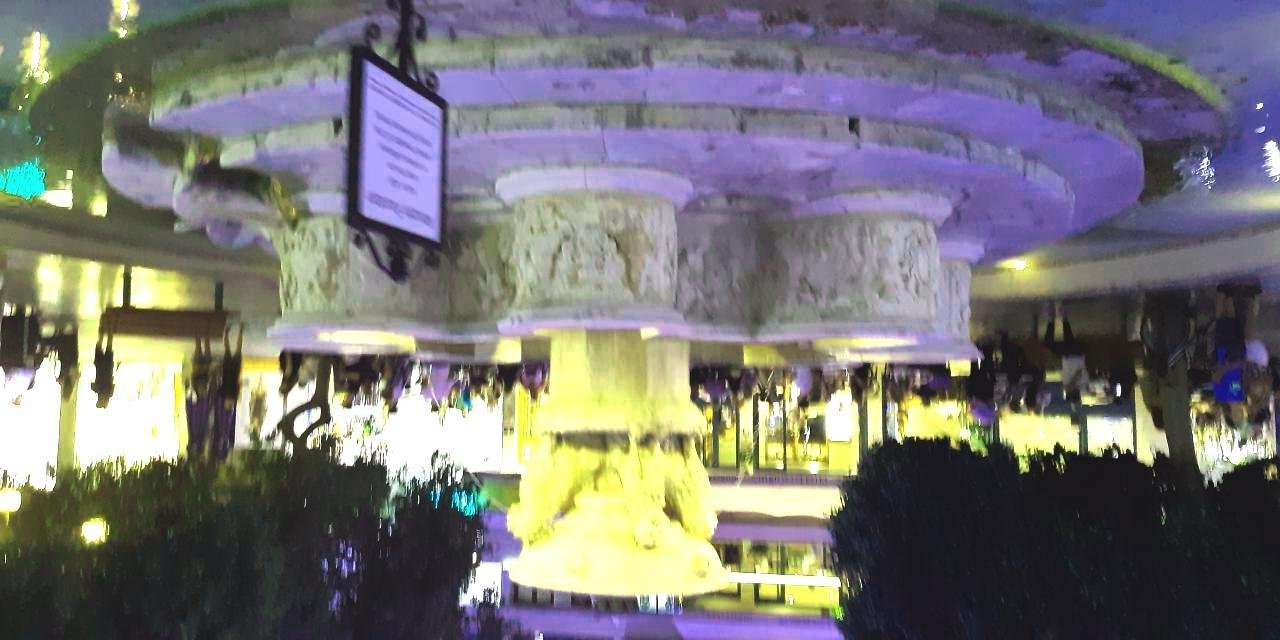Liontaria: (266, 163, 979, 596)
